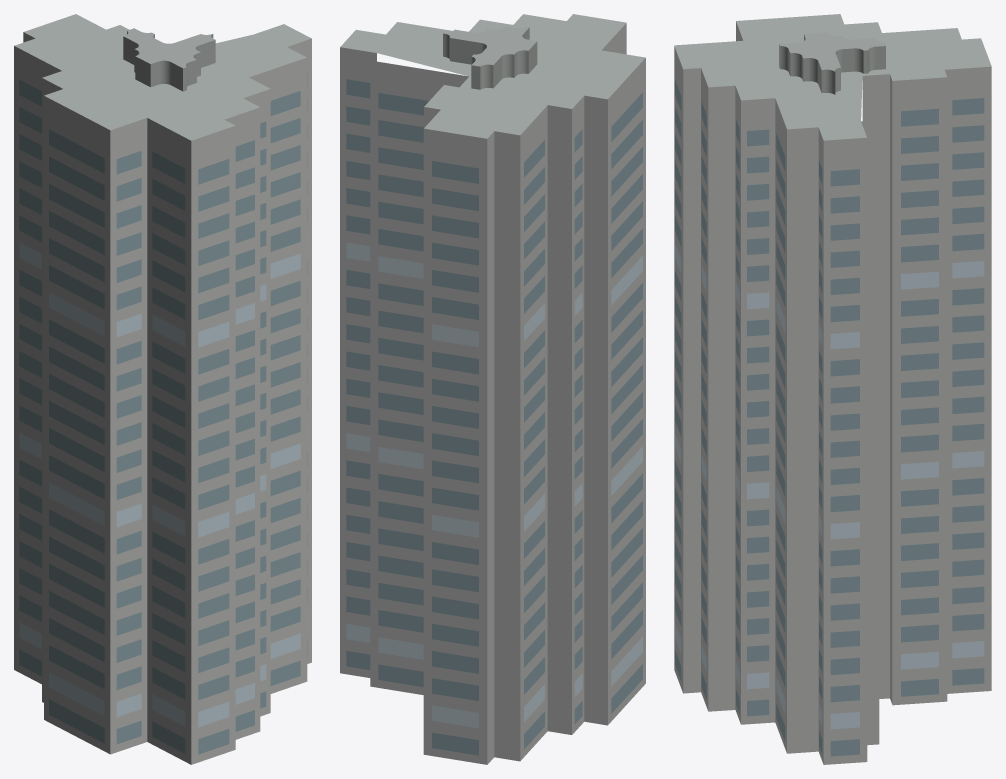
File: fallback-mapo-raemian-prugio-307.glb
The picture shows the model from 3 angles, left to right: view 1: azimuth 30°, elevation 25°; view 2: azimuth 150°, elevation 25°; view 3: azimuth 270°, elevation 25°; orthographic projection.
Parts seen in each view (by area): view 1: fallback-mapo-raemian-prugio-307; view 2: fallback-mapo-raemian-prugio-307; view 3: fallback-mapo-raemian-prugio-307.
Boxes of the visible parts, bbox=[...] form: fallback-mapo-raemian-prugio-307: bbox=[14, 14, 311, 764]; fallback-mapo-raemian-prugio-307: bbox=[340, 14, 645, 764]; fallback-mapo-raemian-prugio-307: bbox=[674, 14, 991, 764].
Bounding box in the file's own units: 28.11 × 67 × 29.79.
